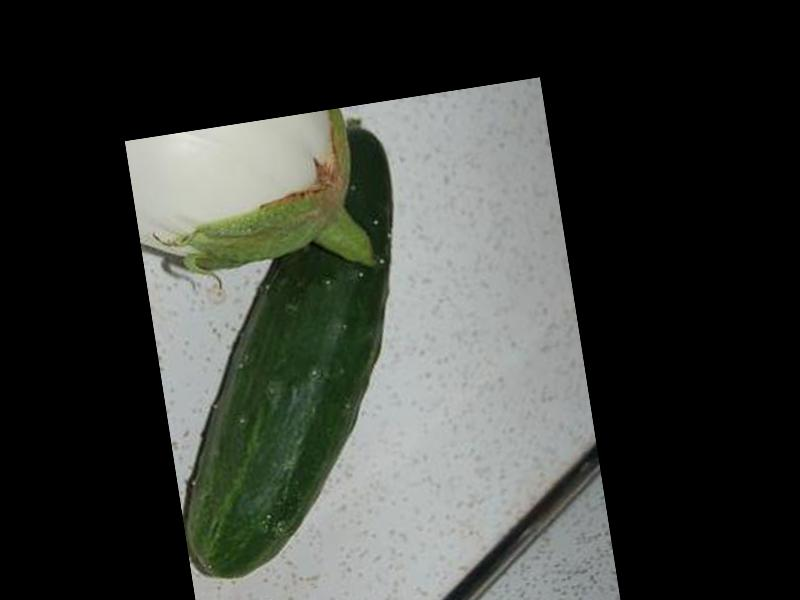Cucumber: (126, 114, 445, 583)
